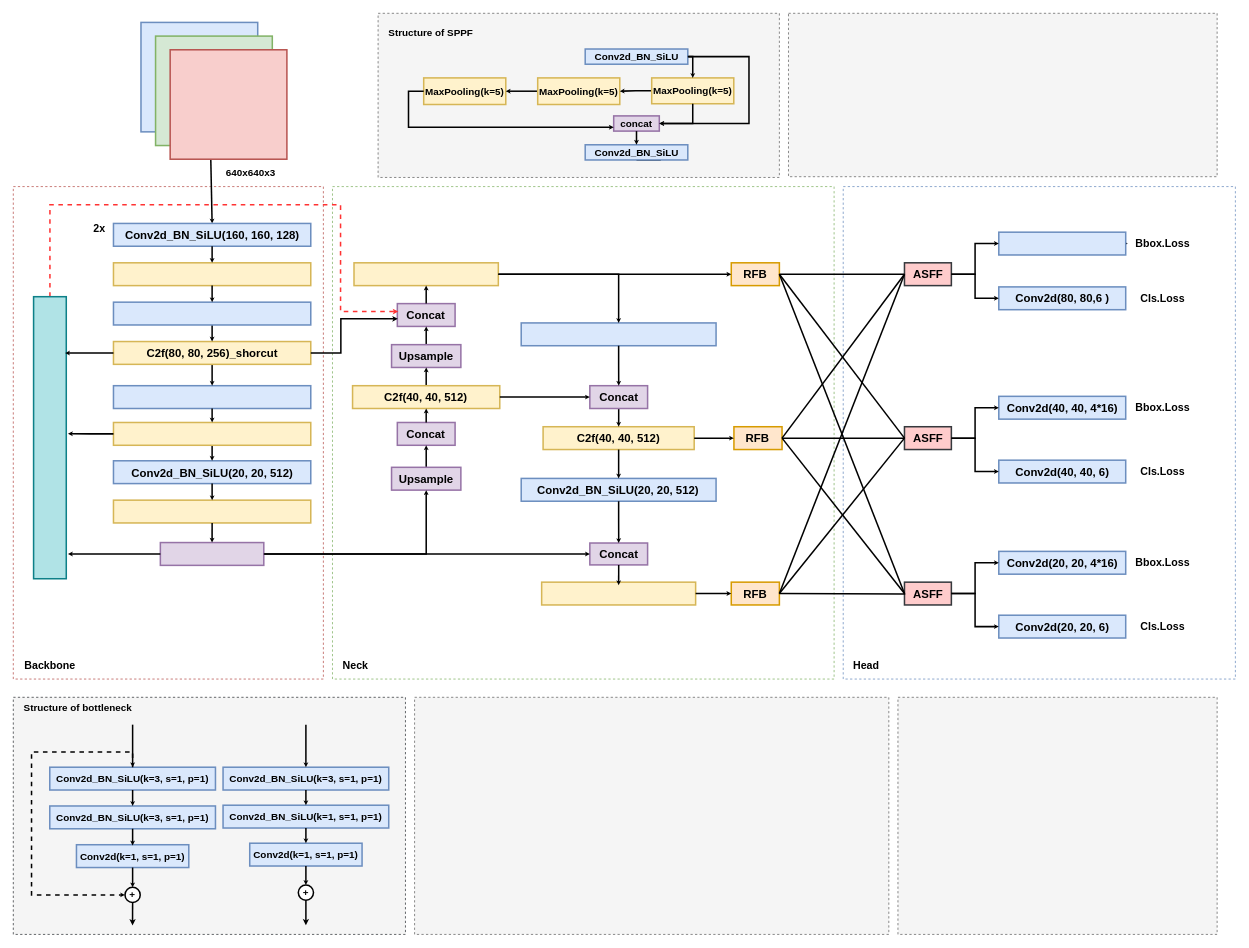
The diagram is 1249 pixels wide and 948 high, and some of its shapes have lost their labels. Here are the shapes that lost their labels. From the top down, the centre of each, then its label:
At pixel 1062 243: "Conv2d(80, 80, 4*16)".
At pixel 211 274: "C2f(160, 160, 128)_shorcut".
At pixel 426 274: "C2f(80, 80, 256)".
At pixel 211 313: "Conv2d_BN_SiLU(80, 80, 256)".
At pixel 618 334: "Conv2d_BN_SiLU(40, 40, 256)".
At pixel 211 397: "Conv2d_BN_SiLU(40, 40, 512)".
At pixel 49 437: "MFRU".
At pixel 211 433: "C2f(40, 40, 512)_shorcut".
At pixel 211 511: "C2f(20, 20, 512)_shorcut".
At pixel 211 553: "SPPF".
At pixel 618 593: "C2f(20, 20, 512)".
